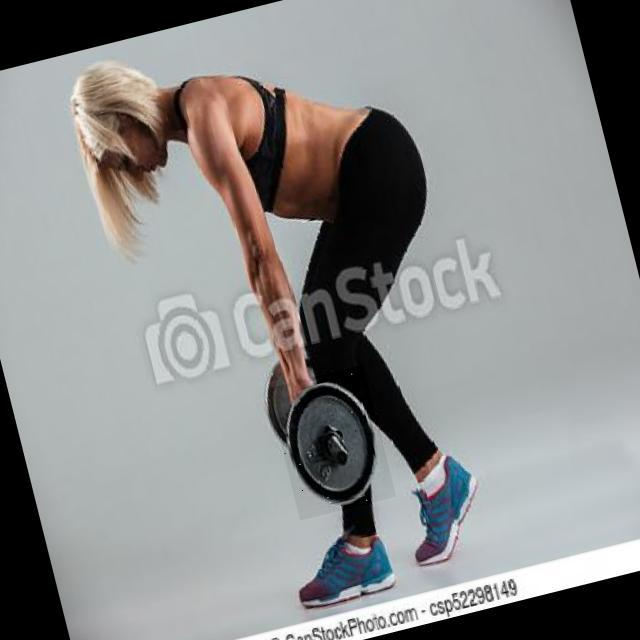barbell: (268, 365, 397, 521)
